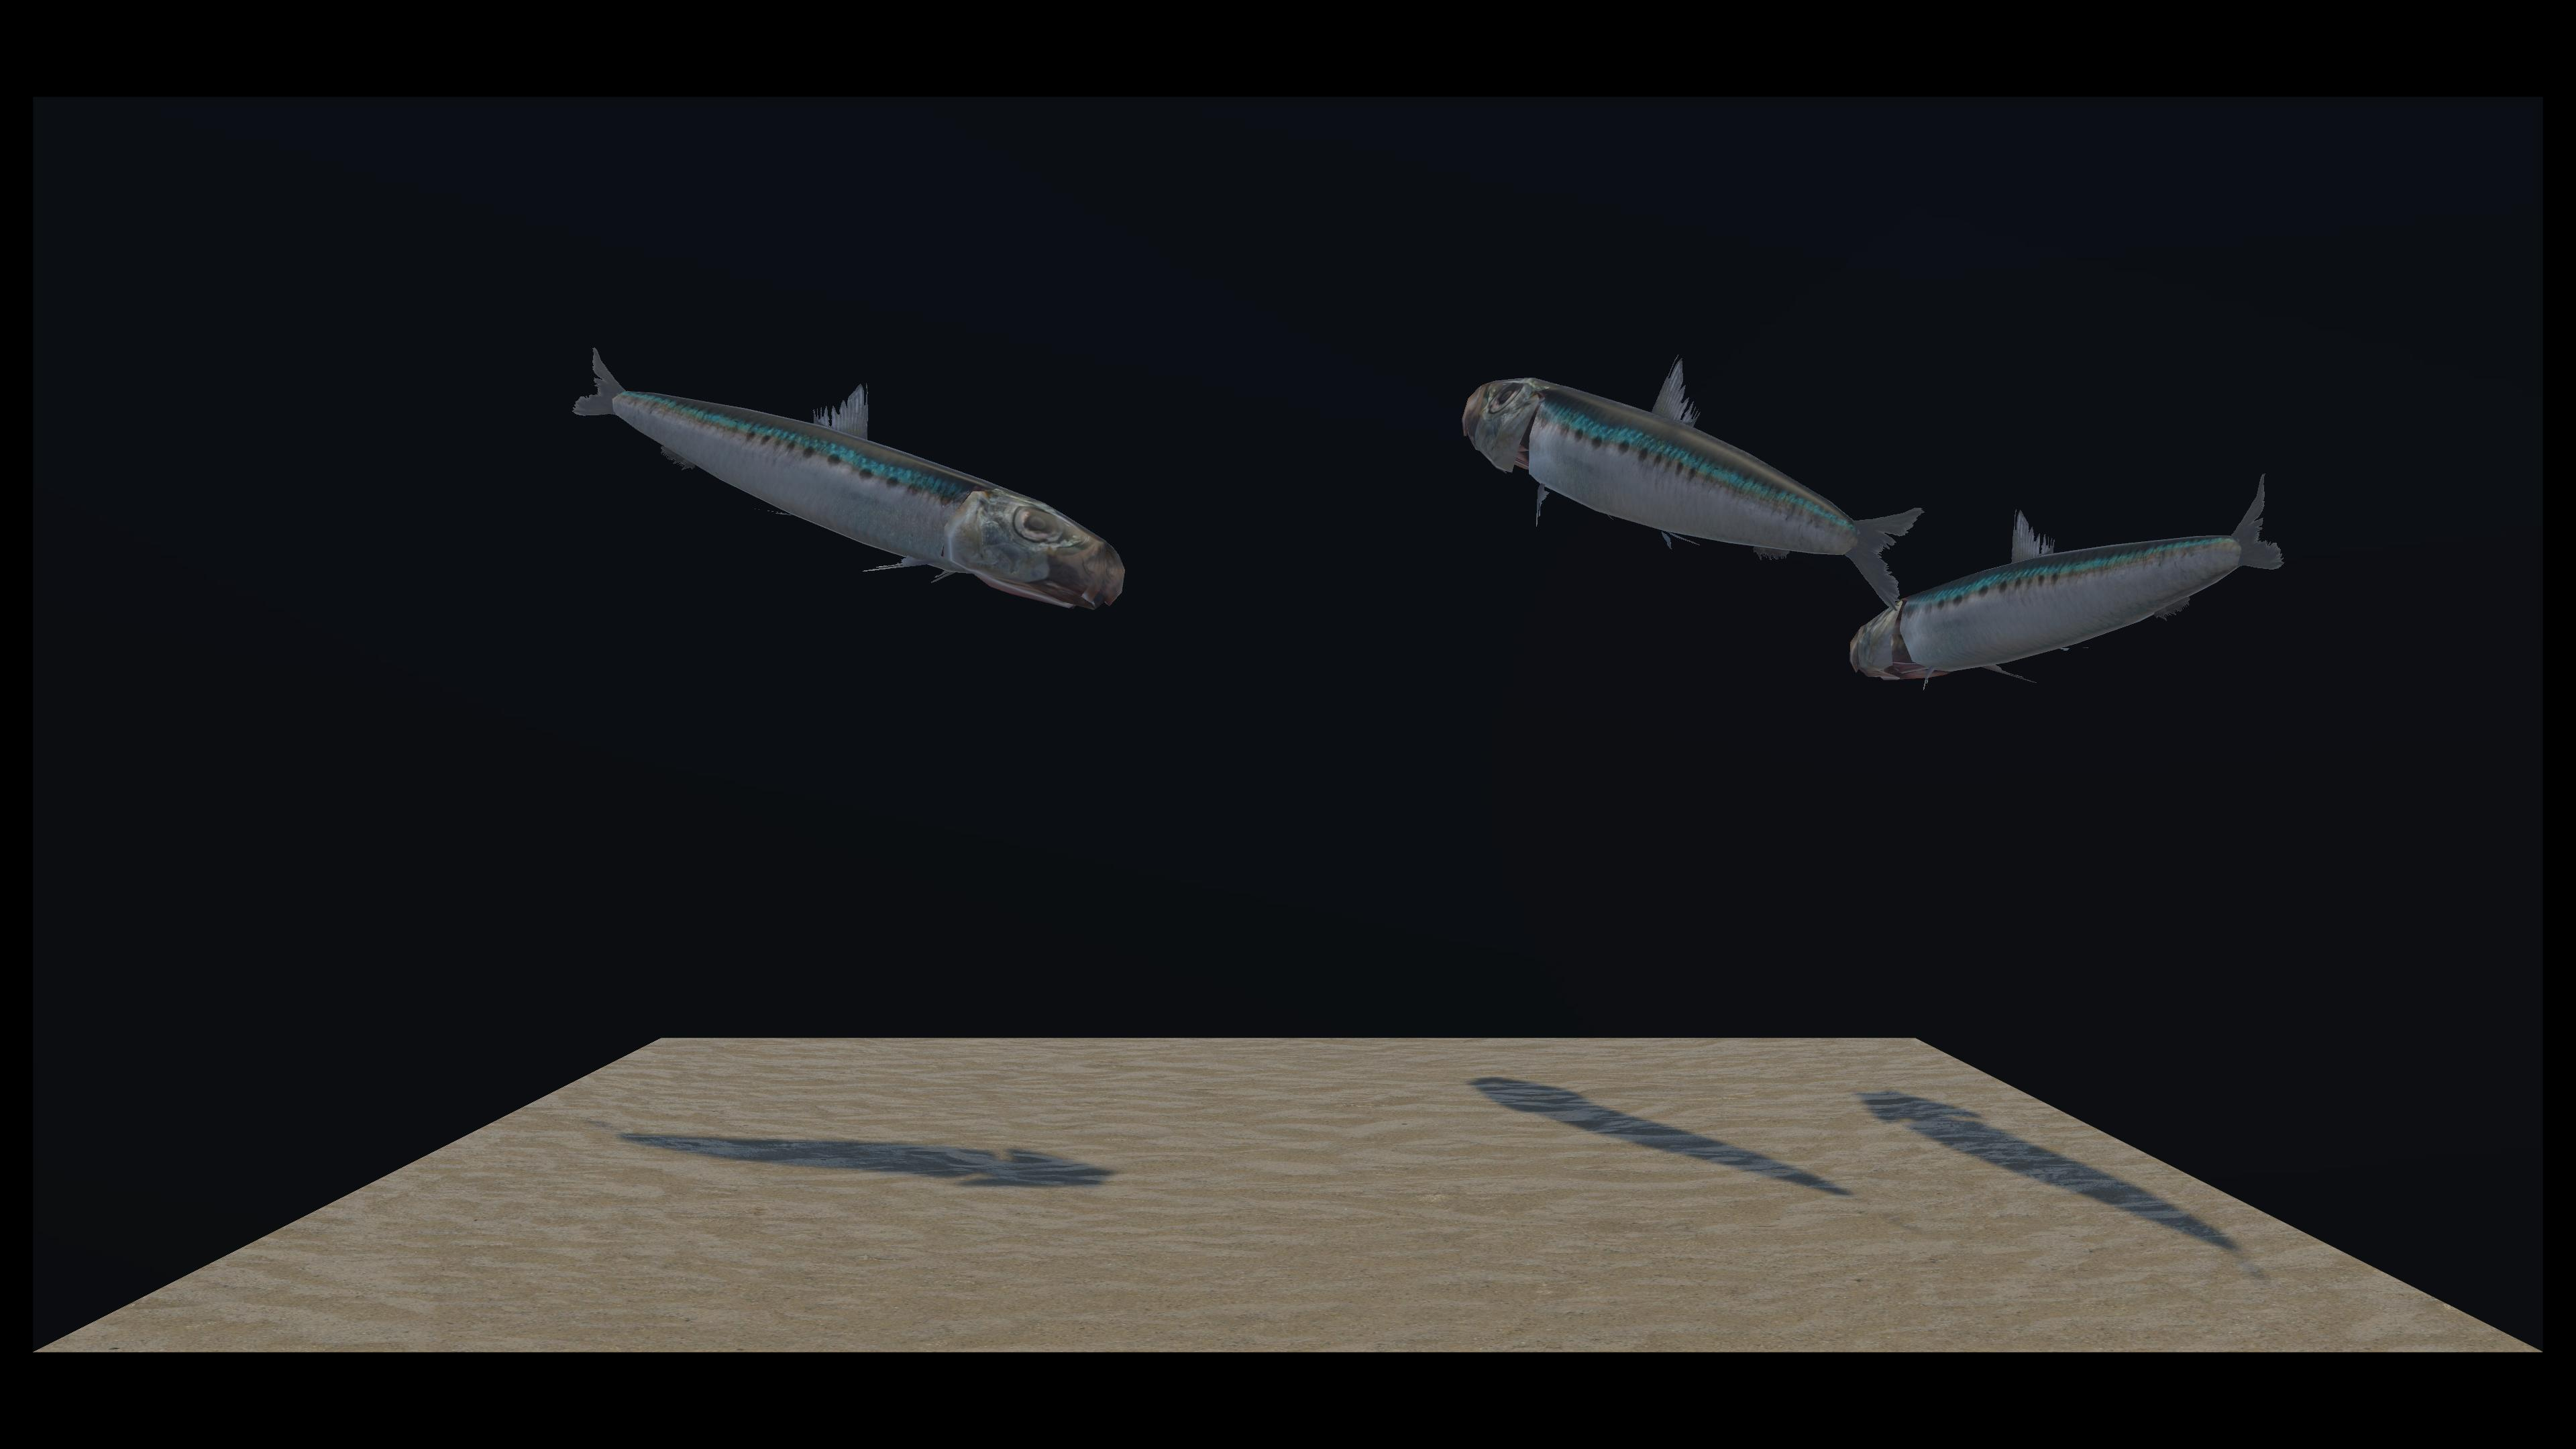Sardine_Front: (770, 345, 2295, 701), (761, 372, 1923, 690), (573, 345, 1104, 594)
